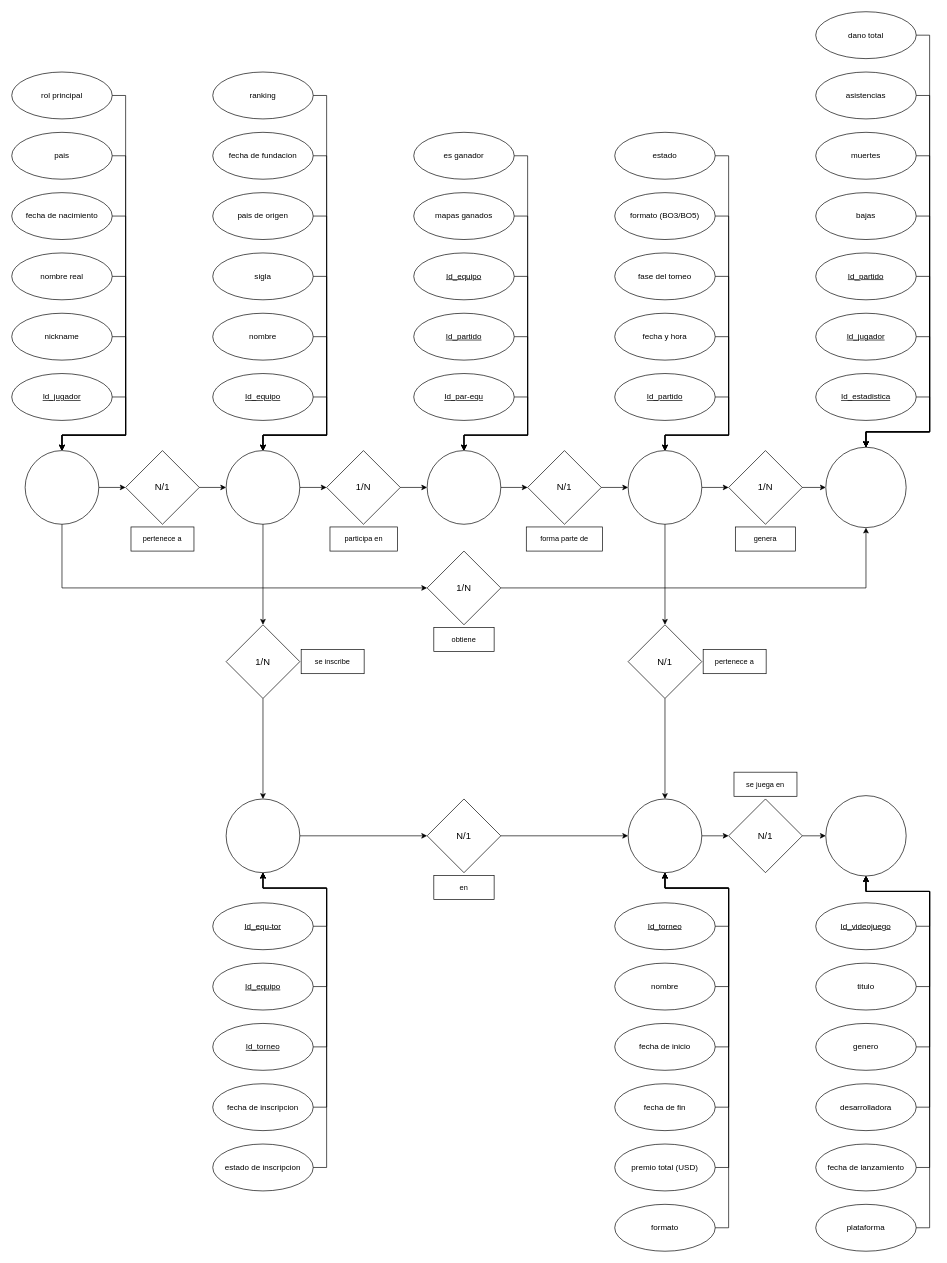
Some shapes in this 947 by 1263 pixel diagram are drawn without their labels. Here are the shapes that lost their labels. From the top down, the centre of each, then its label:
At point (61, 487): "JUGADOR".
At point (262, 487): "EQUIPO".
At point (463, 487): "PAR-EQU".
At point (664, 487): "PARTIDO".
At point (865, 487): "ESTADISTICA".
At point (262, 835): "EQU-TOR".
At point (664, 835): "TORNEO".
At point (865, 835): "VIDEOJUEGO".
